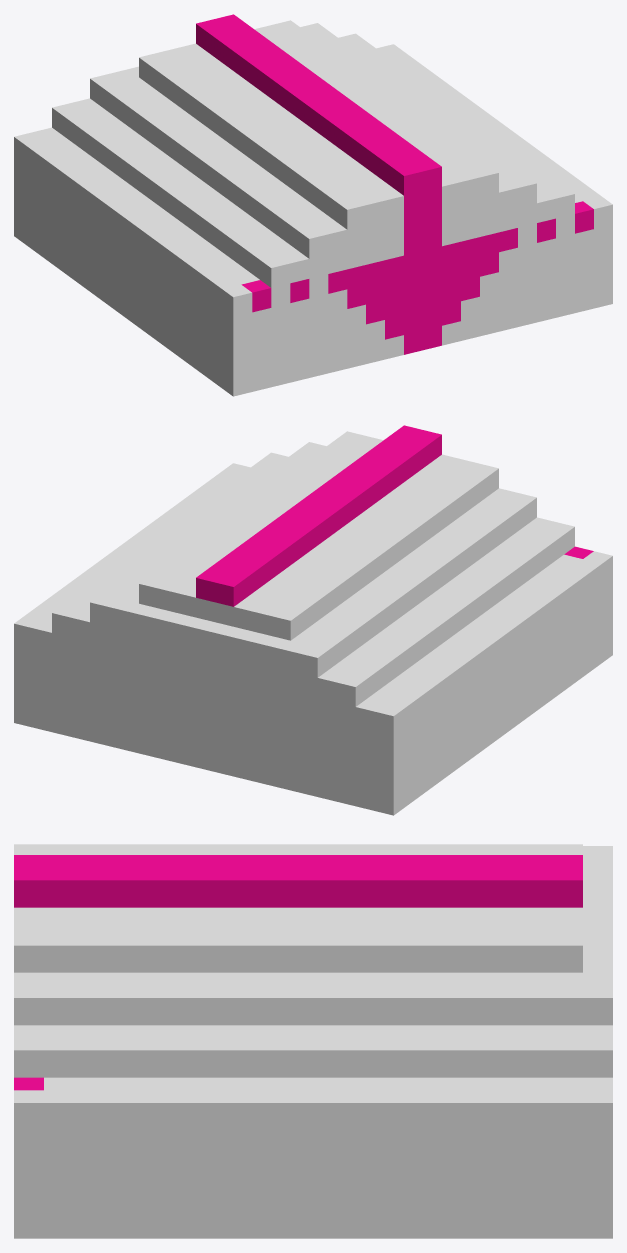
File: DoorTop.FBX
3 views of the same model, one above another, from view 1: azimuth 30°, elevation 25°; view 2: azimuth 150°, elevation 25°; view 3: azimuth 270°, elevation 25° (orthographic). The views are drawn at different scales.
Parts seen in each view (by area): view 1: PuertaTop; view 2: PuertaTop; view 3: PuertaTop.
Part boxes in pixels (bbox=[...]): PuertaTop: bbox=[14, 14, 612, 396]; PuertaTop: bbox=[14, 425, 612, 815]; PuertaTop: bbox=[14, 844, 612, 1238].
Bounding box in the file's own units: 1 × 0.45 × 1.
Materials: 1 (1 with a texture image).
